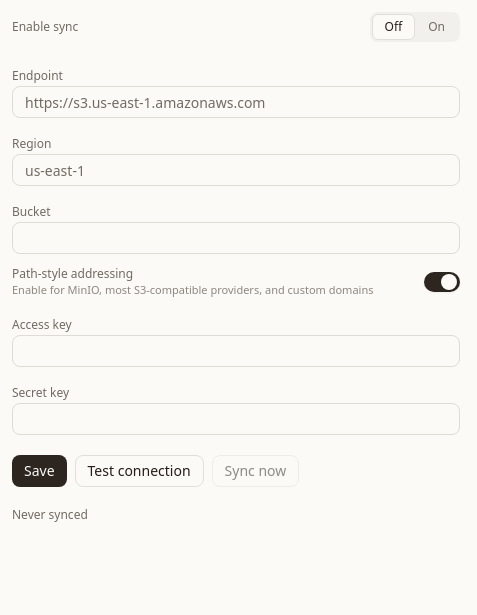
Scenario: SyncSettingsForm › shows the plaintext disclosure when enabling sync
Expected: the field labelled "Endpoint" is shown, [12,86,460,118]
Expected: the text "plaintext" is not shown
Click the radio button labelled "On".
click(437, 27)  # box [415,14,458,40]
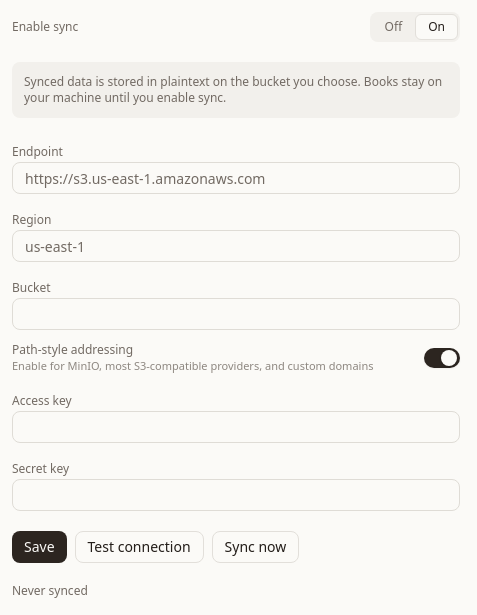
Expected: the text "plaintext" is shown, [24,73,442,106]
